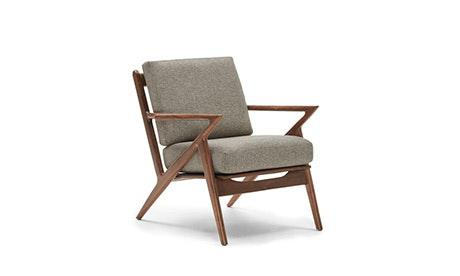chair: (105, 39, 355, 252)
